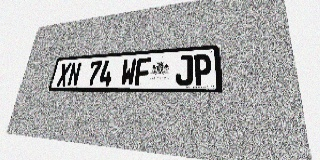4: (98, 60, 114, 86)
7: (86, 61, 102, 86)
F: (134, 58, 151, 86)
J: (175, 55, 193, 86)
N: (67, 62, 82, 86)
P: (193, 54, 212, 85)
W: (120, 58, 137, 86)
X: (56, 63, 71, 86)
